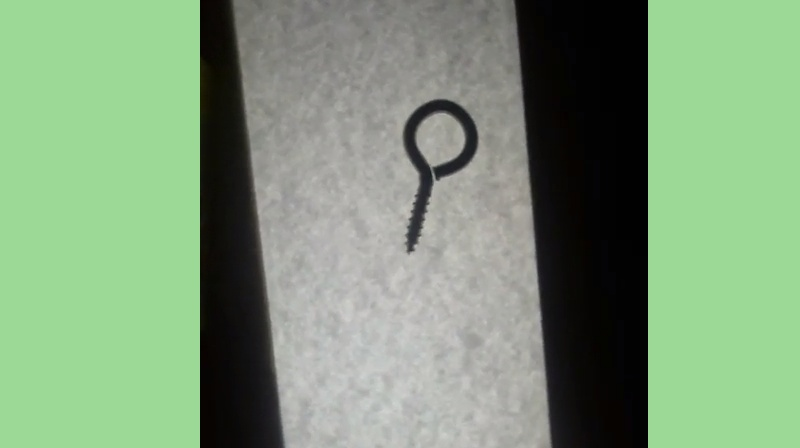O001: (401, 95, 480, 256)
